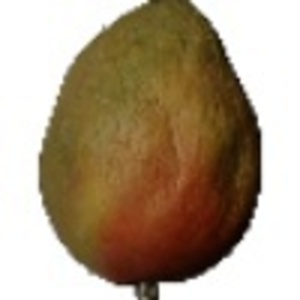mamão: (34, 4, 269, 287)
